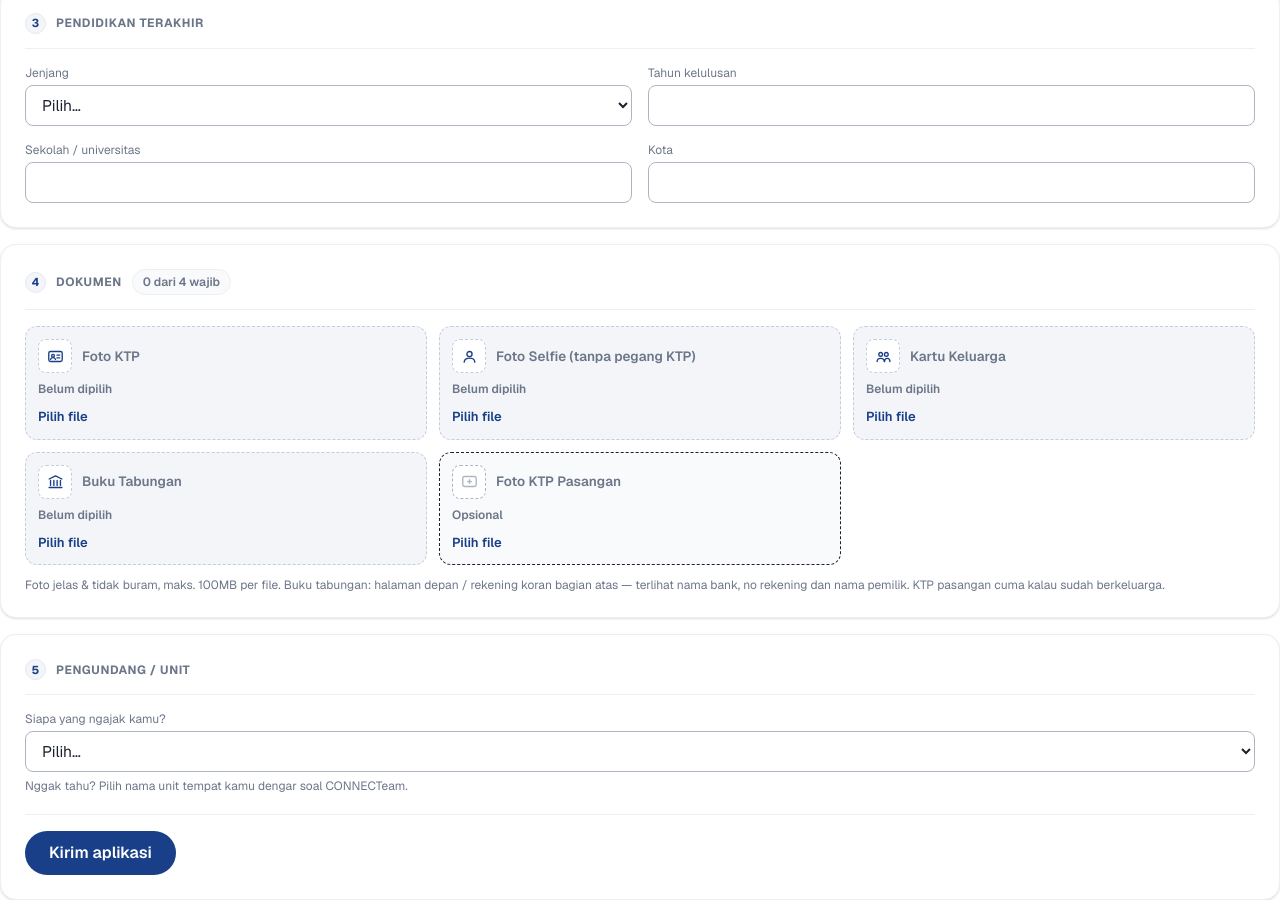
Scenario: ApplicationForm — existing-member check › the check runs after validation passes, not on an incomplete form
(page scrolled)
Step 1. Click the button "Kirim aplikasi" → (100, 853), box [25,831,176,875]
(page scrolled)
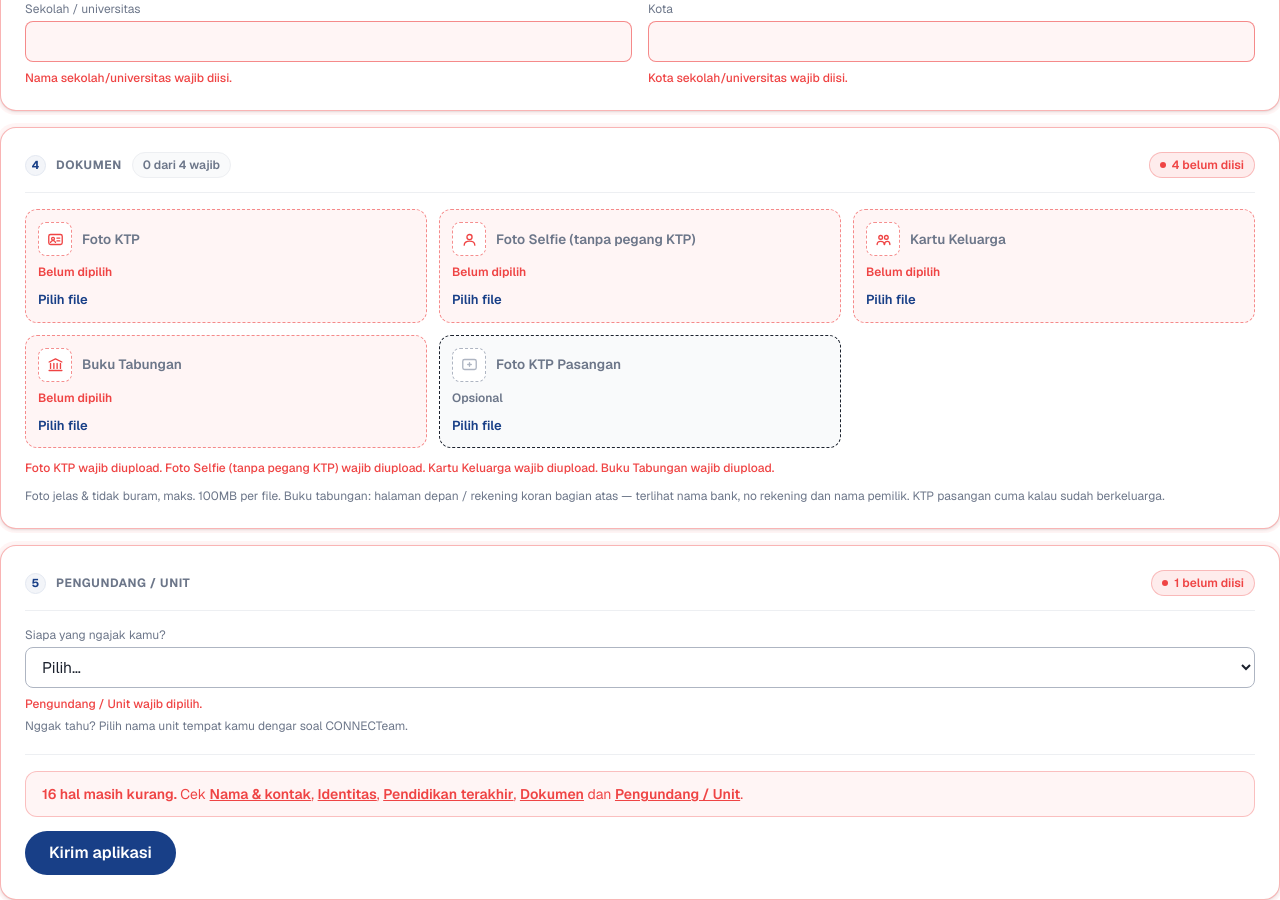
expect the message shows "hal masih kurang": met, box [56,785,177,803]
